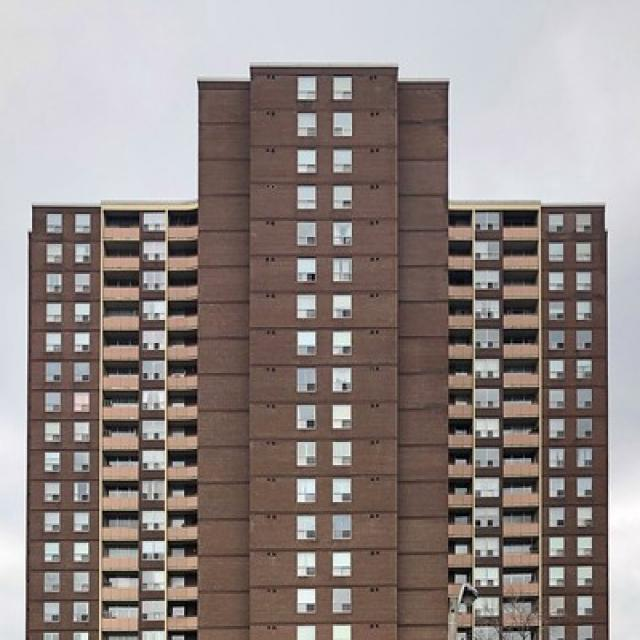Normal_building: (190, 60, 454, 640)
